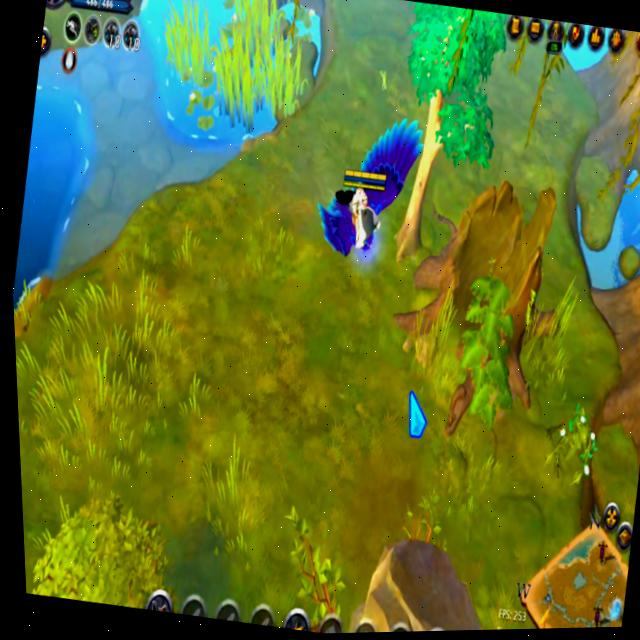ore: (532, 395, 611, 503)
red: (296, 88, 441, 284)
wisp caged: (363, 0, 531, 288)
